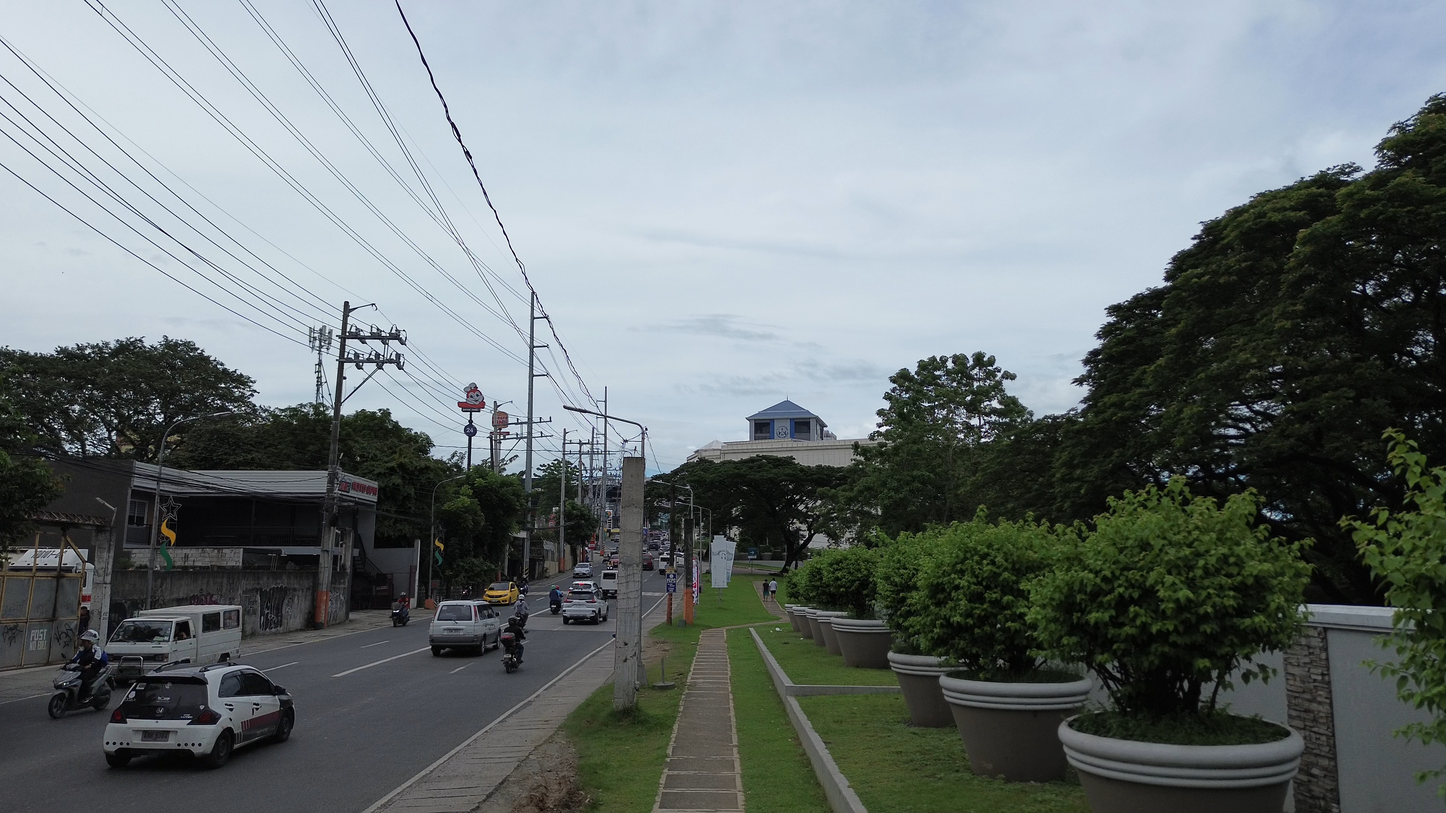car: (103, 663, 294, 767), (483, 582, 520, 605), (569, 580, 599, 592)
motorcycle: (47, 664, 112, 719), (499, 631, 520, 673), (391, 602, 409, 627), (550, 596, 562, 615)
vehicle: (105, 605, 241, 682), (0, 548, 95, 608), (429, 601, 501, 655), (562, 592, 609, 624), (500, 632, 520, 673), (600, 569, 618, 598), (569, 580, 599, 592), (573, 561, 592, 579), (549, 596, 563, 615), (642, 552, 654, 569)
